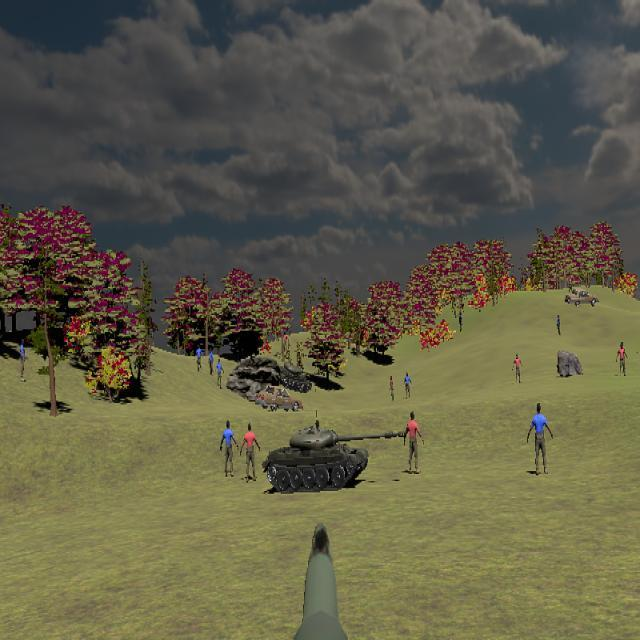Human: (527, 402, 554, 475), (404, 410, 424, 474), (240, 422, 261, 482), (220, 420, 238, 478), (616, 342, 628, 377)
Tank: (263, 425, 401, 494), (271, 363, 324, 392)
car: (255, 384, 304, 413), (255, 385, 304, 414), (564, 290, 599, 307)
